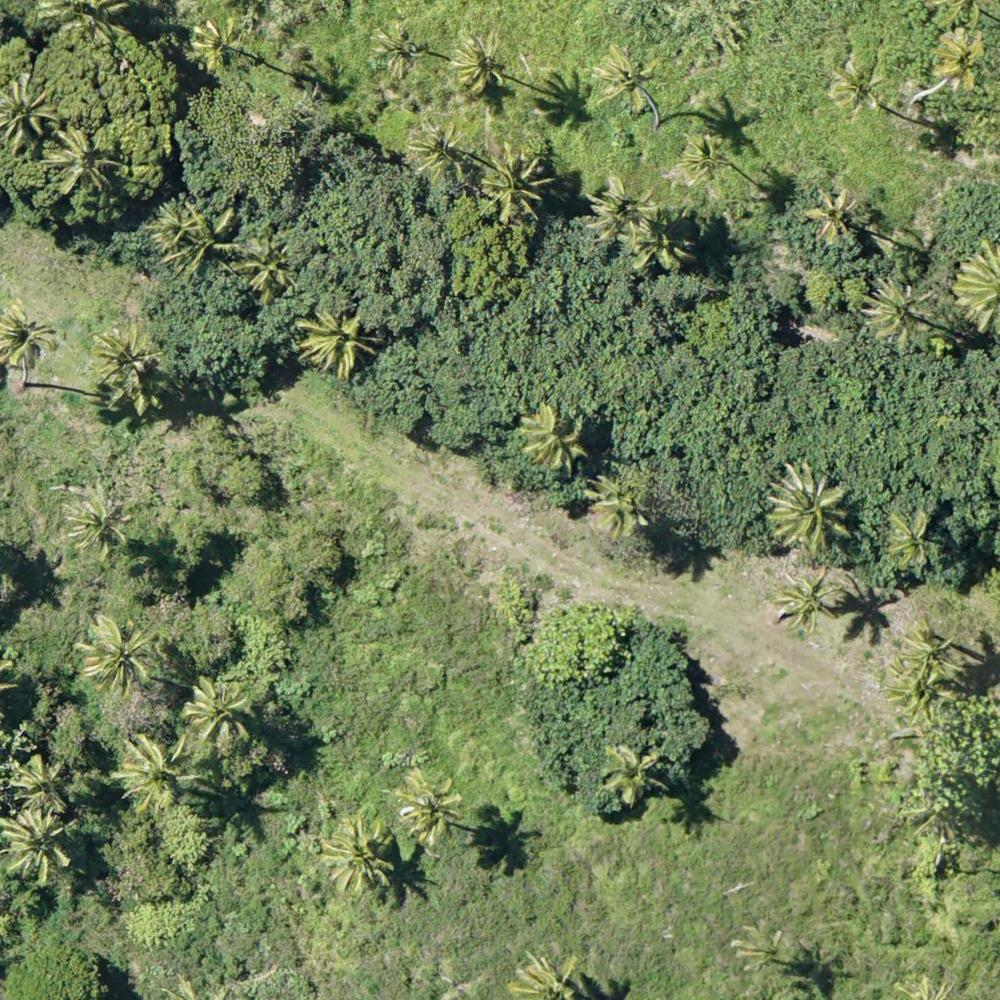Palm: (765, 463, 850, 552), (119, 731, 200, 809), (82, 614, 157, 691), (186, 673, 258, 748), (1, 815, 73, 889), (64, 485, 135, 560), (392, 769, 465, 841), (298, 309, 374, 378), (865, 278, 936, 347), (324, 821, 393, 891), (485, 144, 552, 215), (92, 326, 159, 396), (522, 401, 586, 471), (3, 74, 64, 147), (51, 123, 118, 189), (598, 43, 665, 109), (774, 567, 842, 632), (587, 178, 654, 243), (895, 623, 962, 685), (413, 119, 472, 189), (586, 471, 650, 533), (604, 741, 668, 802), (882, 510, 943, 573), (373, 17, 432, 80), (1, 304, 53, 375), (13, 754, 73, 814), (935, 28, 991, 92), (151, 201, 213, 258), (808, 184, 868, 240), (452, 33, 508, 92), (187, 17, 241, 77), (676, 130, 731, 186), (828, 60, 884, 114)
